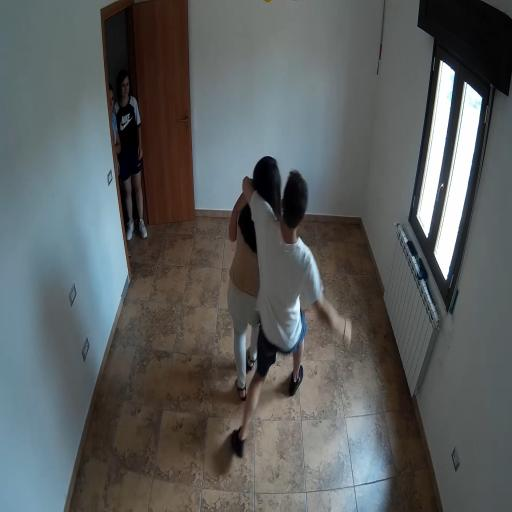violencia: (210, 125, 362, 474)
